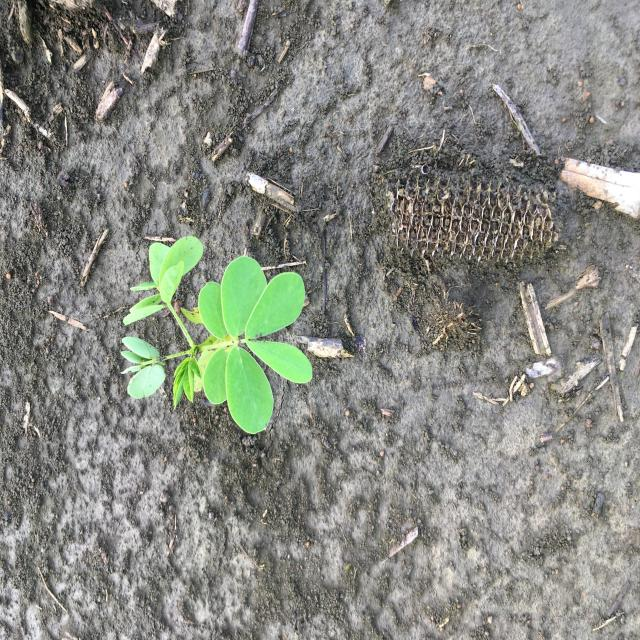Sicklepod: (118, 233, 315, 437)
